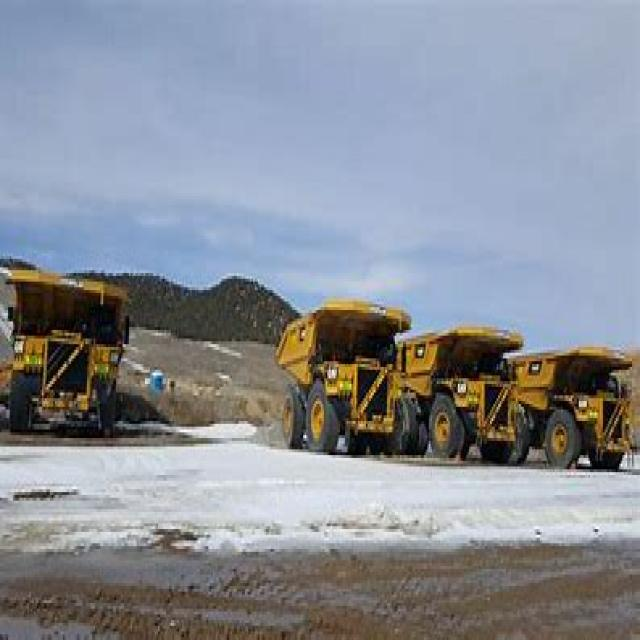dump_truck: (269, 273, 403, 464), (0, 247, 127, 435), (524, 310, 638, 495), (410, 284, 522, 463)
